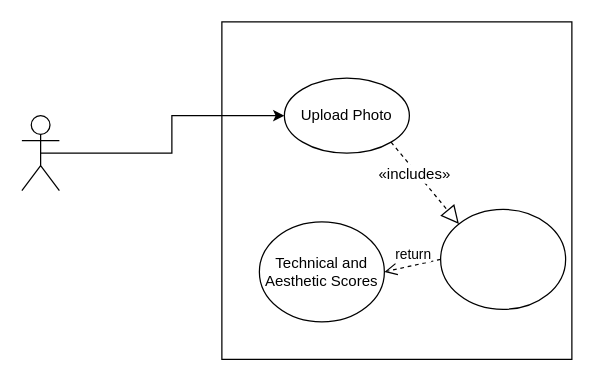
Image size: 594x381. Some labels were removed from this diagram. Each missing label, with the centre of its shape:
Assessment Algorithm: (502,258)
User: (40,152)
